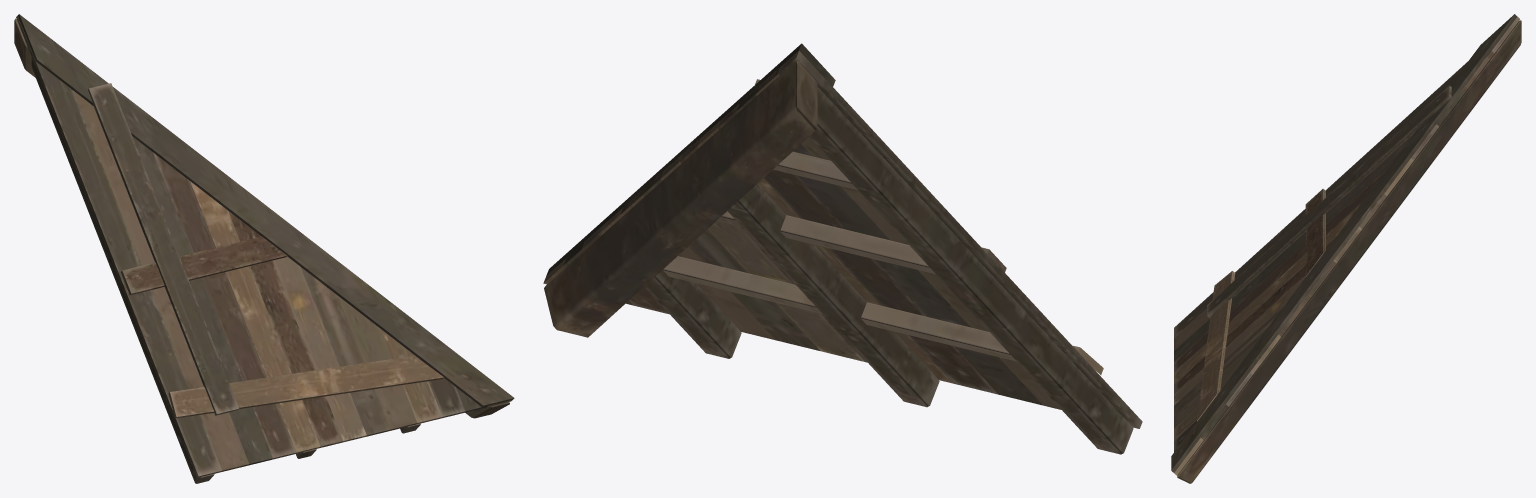
The model's file is roof.frontier.corner.90.convex.r.glb.
The picture shows the model from 3 angles, left to right: view 1: azimuth 30°, elevation 25°; view 2: azimuth 150°, elevation 25°; view 3: azimuth 270°, elevation 25°; orthographic projection. The views are drawn at different scales.
Parts seen in each view (by area): view 1: roof.corner.90.convex.R_LOD0; view 2: roof.corner.90.convex.R_LOD0; view 3: roof.corner.90.convex.R_LOD0.
Boxes of the visible parts, bbox=[...] form: roof.corner.90.convex.R_LOD0: bbox=[14, 14, 514, 483]; roof.corner.90.convex.R_LOD0: bbox=[543, 43, 1142, 454]; roof.corner.90.convex.R_LOD0: bbox=[1171, 14, 1521, 483].
Size of the model in its own units: 3.02 by 3.19 by 3.06.
1 material, 1 textured.
